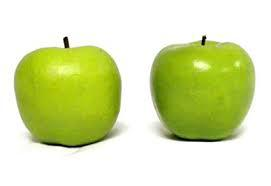apple: (18, 45, 122, 144), (162, 36, 253, 141)
